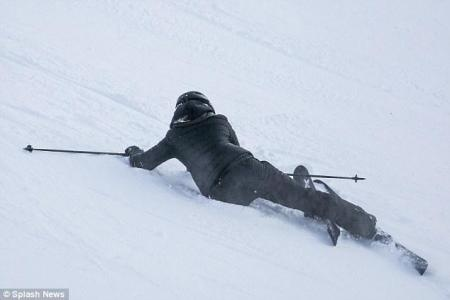falling: (114, 83, 422, 251)
